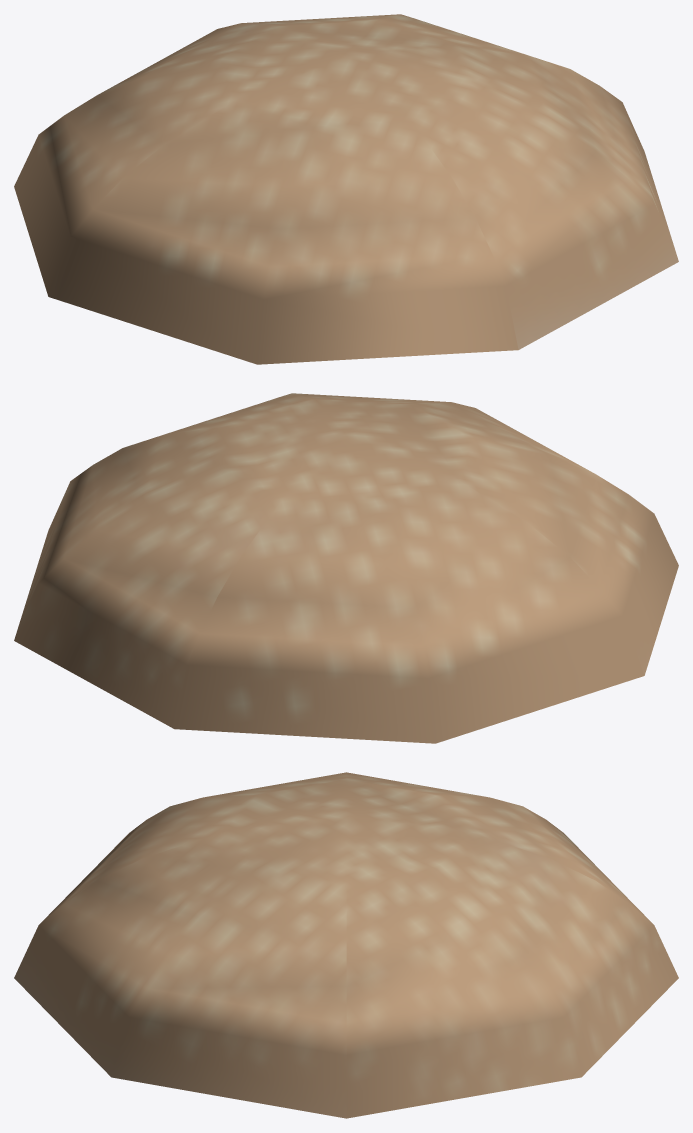
Rendered from ING_burgerBun_TopV03.fbx.
The picture shows the model from 3 angles, top to bottom: view 1: azimuth 30°, elevation 25°; view 2: azimuth 150°, elevation 25°; view 3: azimuth 270°, elevation 25°; orthographic projection. The views are drawn at different scales.
Visible parts, largest first — view 1: bun_bot; view 2: bun_bot; view 3: bun_bot.
Boxes of the visible parts, x1,y1,x2,y2 form: bun_bot: (14, 14, 678, 364); bun_bot: (14, 393, 678, 743); bun_bot: (14, 772, 678, 1118).
Bounding box in the file's own units: 30.08 × 8.04 × 30.08.
